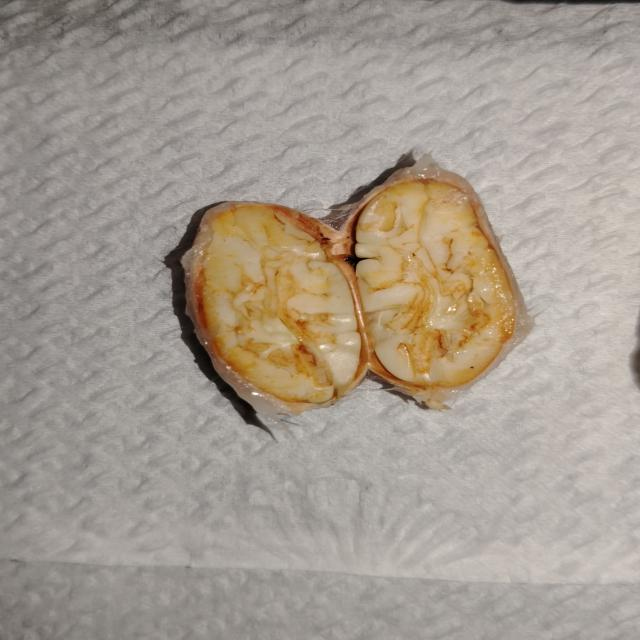Criollo: (341, 180, 515, 398), (170, 200, 348, 406)
